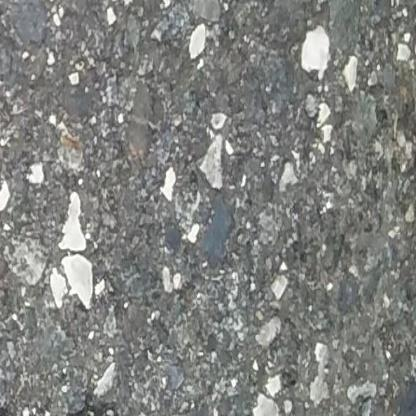Cracks: (0, 365, 30, 416), (63, 392, 123, 416)
